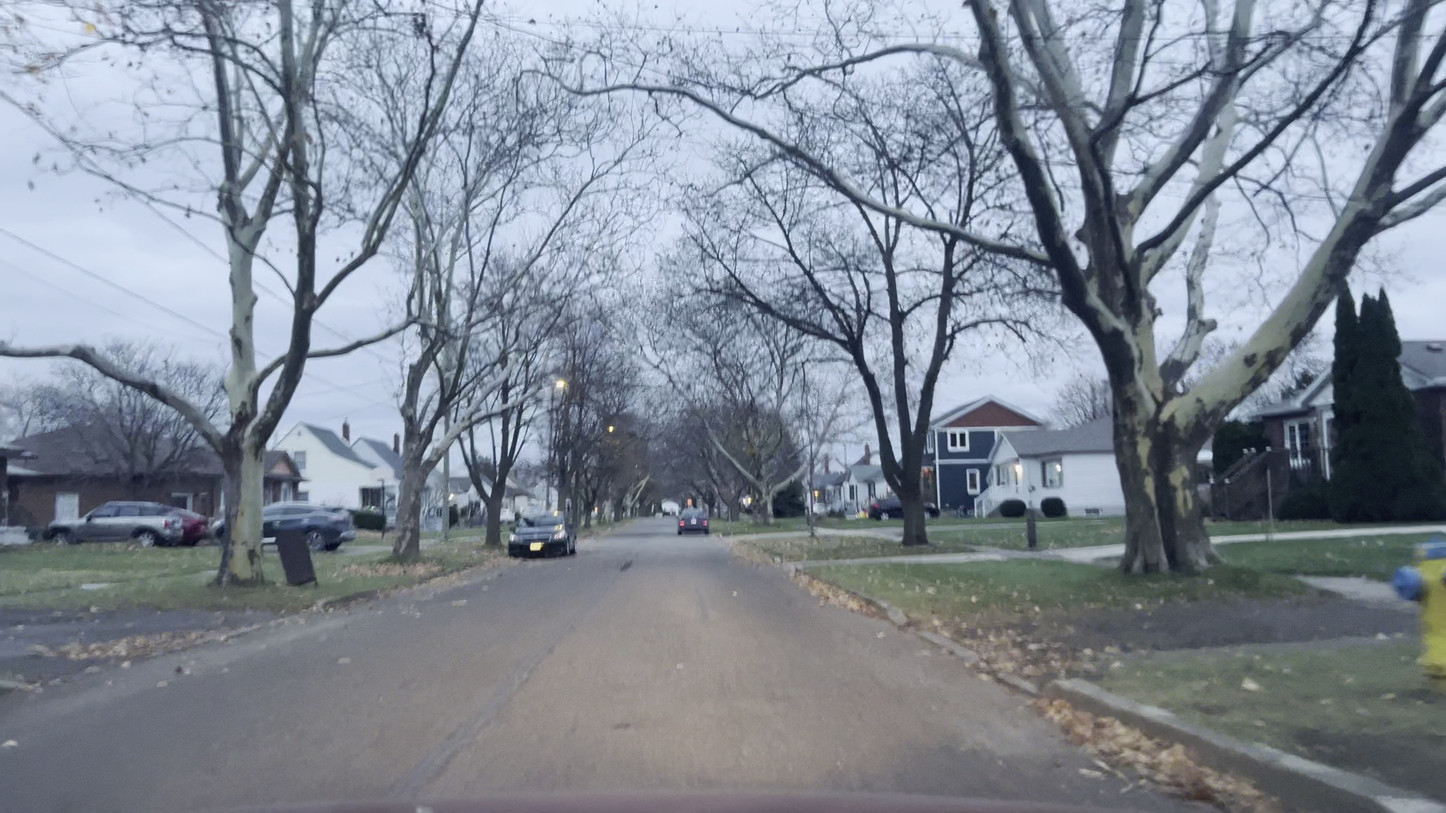cracks: (410, 668, 518, 792), (524, 606, 584, 666)
